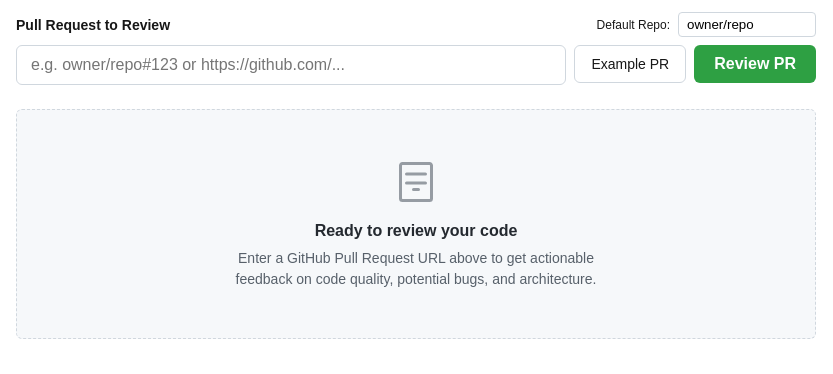
UI Integration: Full Review Flow › should handle and display errors from the server action
Type "owner/repo#123" into the field with placeholder "e.g. owner/repo#123 or https://github.com/..." at (291, 65), box left=16, top=45, right=566, bottom=85
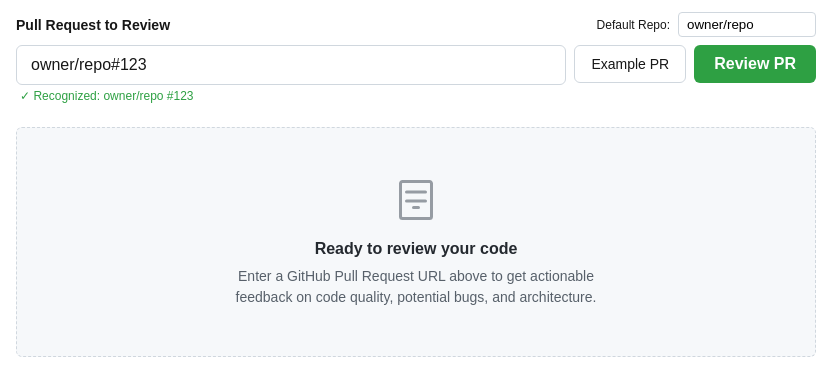
Click the button "Review PR" at (755, 64), box left=694, top=45, right=816, bottom=83
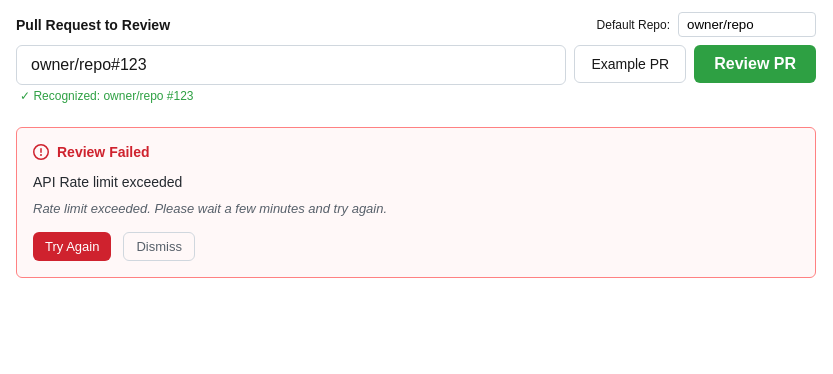
Check: the text "API Rate limit exceeded" is shown, box left=33, top=174, right=182, bottom=190
